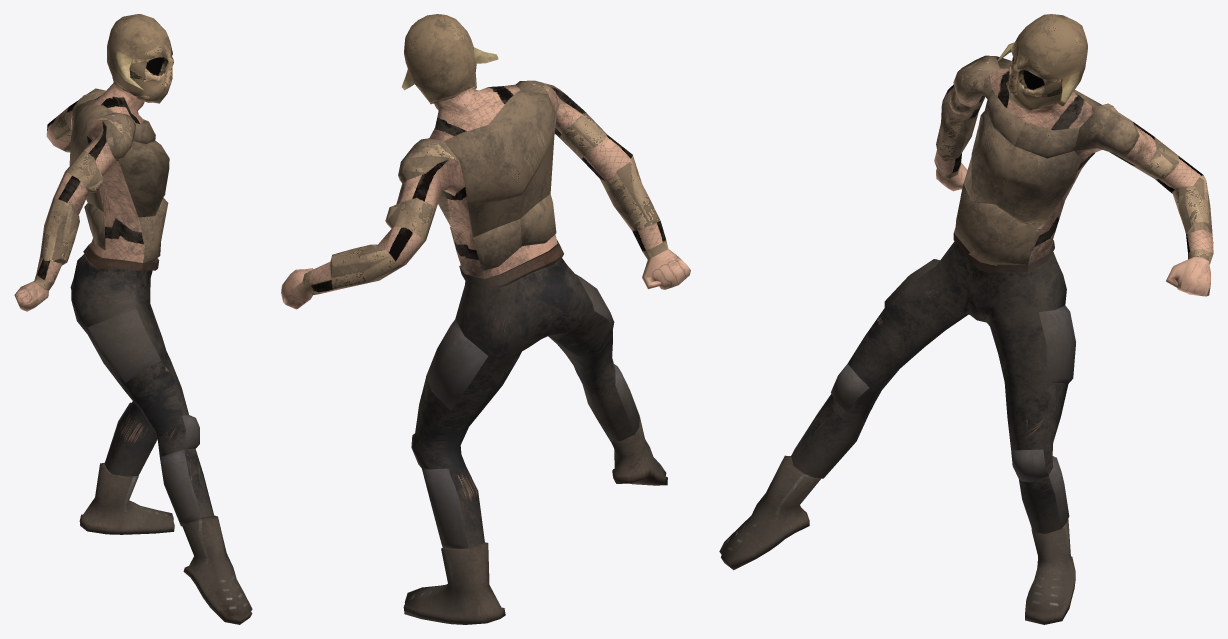
File: Anim_ataque_f2_npc1.0023.obj
3 views of the same model, side by side, from view 1: azimuth 30°, elevation 25°; view 2: azimuth 150°, elevation 25°; view 3: azimuth 270°, elevation 25° (orthographic). The views are drawn at different scales.
Parts seen in each view (by area): view 1: NPC2; view 2: NPC2; view 3: NPC2.
Boxes of the visible parts, x1,y1,x2,y2 form: NPC2: (14, 14, 252, 624); NPC2: (281, 14, 690, 624); NPC2: (719, 14, 1213, 624).
Size of the model in its own units: 4.47 by 9.18 by 6.96.
